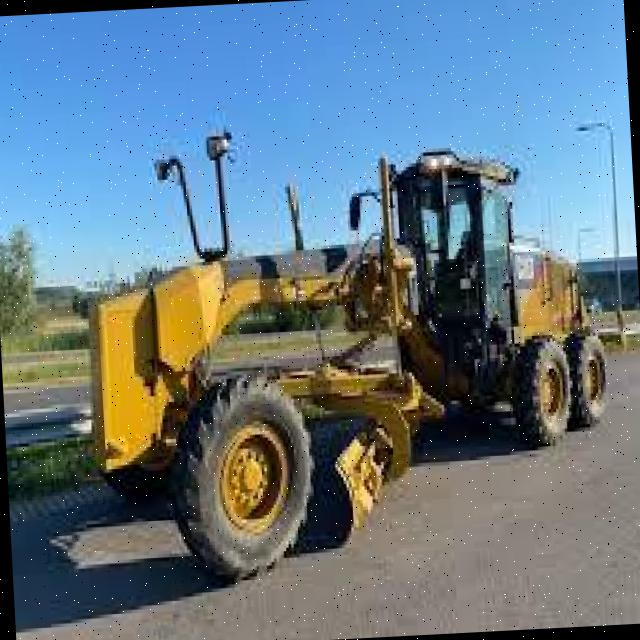Grader: (44, 81, 640, 576)
